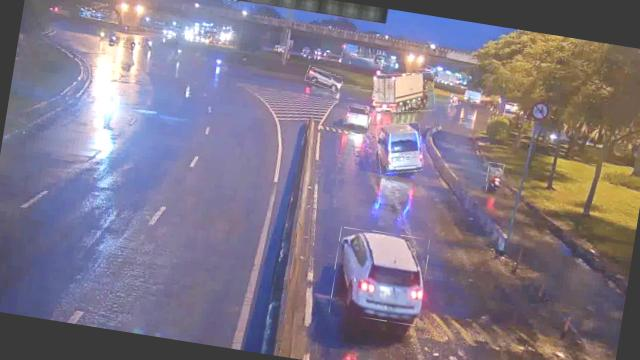Bike: (98, 93, 120, 128), (484, 162, 504, 192)
Bus: (372, 118, 428, 178)
Car: (328, 226, 431, 327), (343, 97, 372, 129), (305, 68, 343, 90)
Truck: (370, 66, 438, 118)
